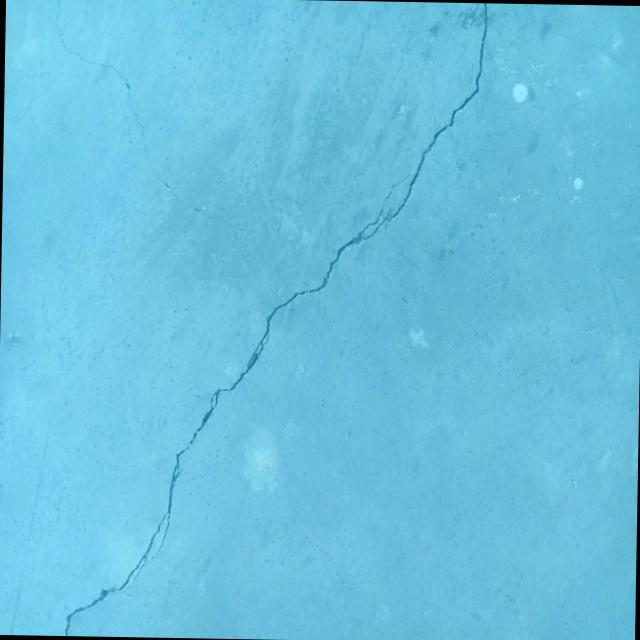crack: (43, 0, 488, 640)
